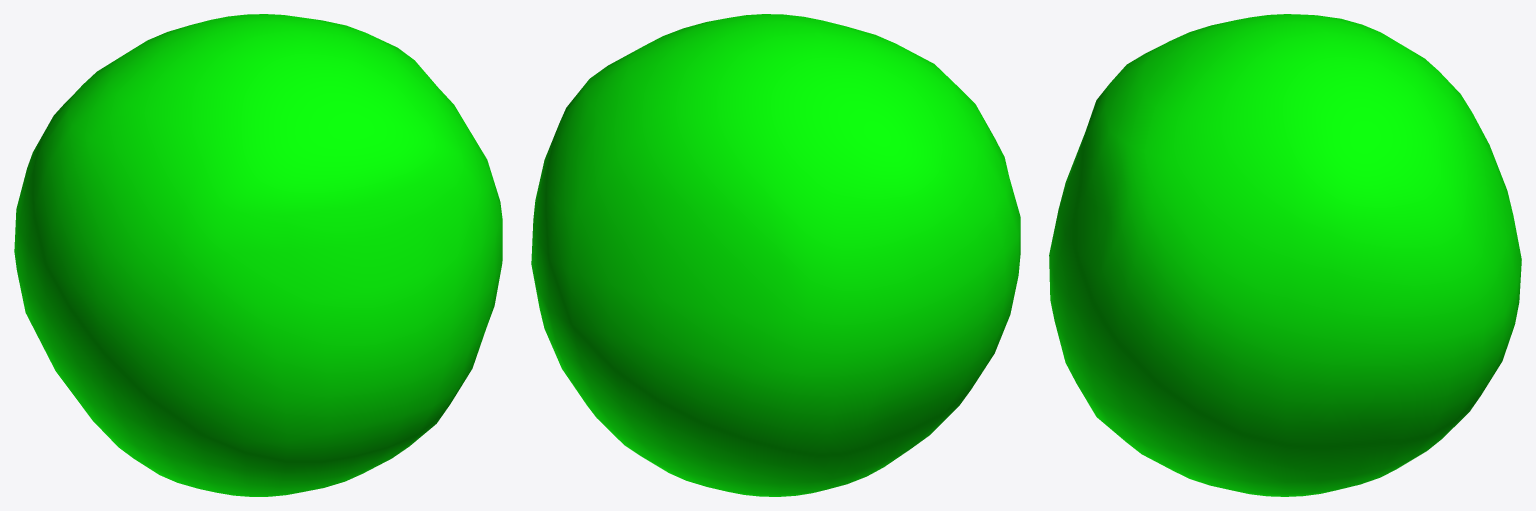
File: outlineball.obj
3 renders of one model, left to right at view 1: azimuth 30°, elevation 25°; view 2: azimuth 150°, elevation 25°; view 3: azimuth 270°, elevation 25°, orthographic.
Parts seen in each view (by area): view 1: Sphere; view 2: Sphere; view 3: Sphere.
Part boxes in pixels (x1=…): Sphere: x1=14, y1=14, x2=502, y2=496; Sphere: x1=531, y1=14, x2=1020, y2=496; Sphere: x1=1049, y1=14, x2=1521, y2=496.
Size of the model in its own units: 1.51 by 1.5 by 1.47.
